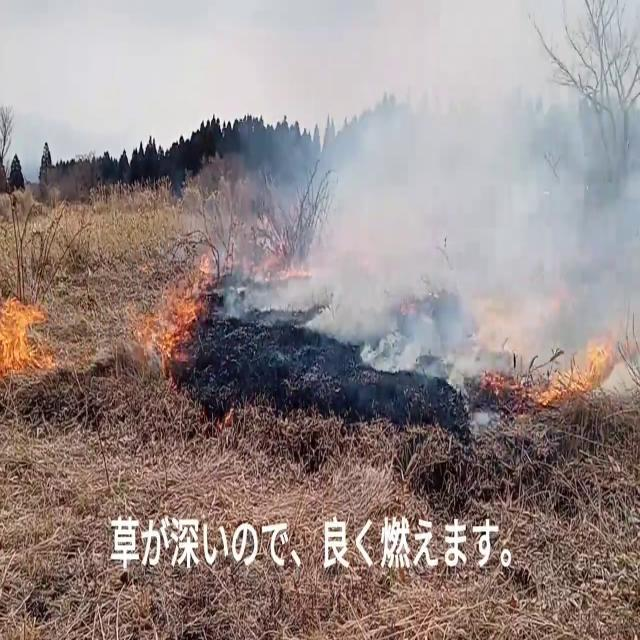Fire: (528, 339, 615, 415), (0, 292, 54, 380), (137, 294, 193, 378), (0, 290, 52, 380)
Smoke: (228, 4, 640, 403)
